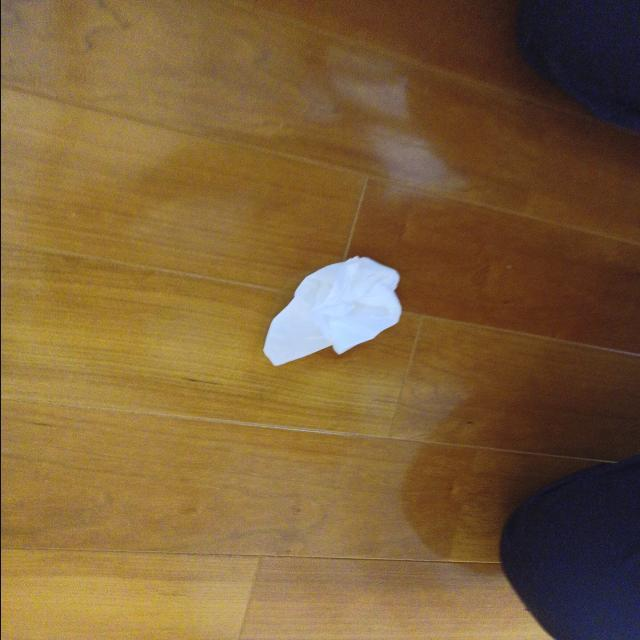Paper: (248, 246, 410, 369)
